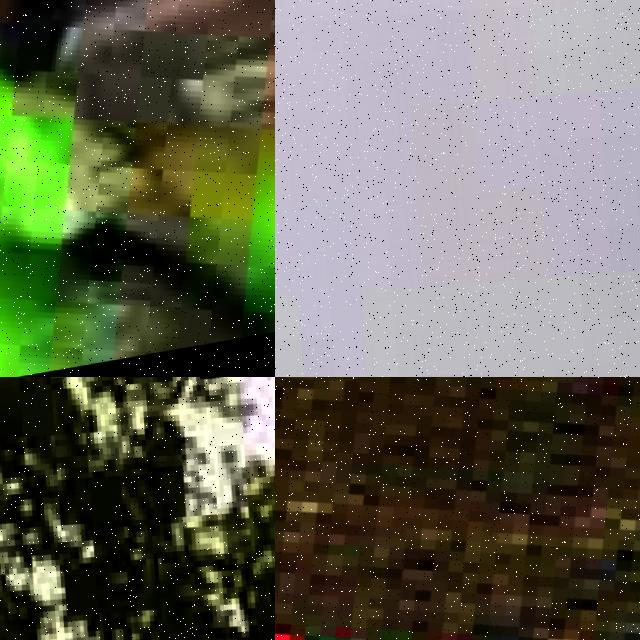0: (0, 0, 275, 377)
drone: (275, 377, 640, 640)
